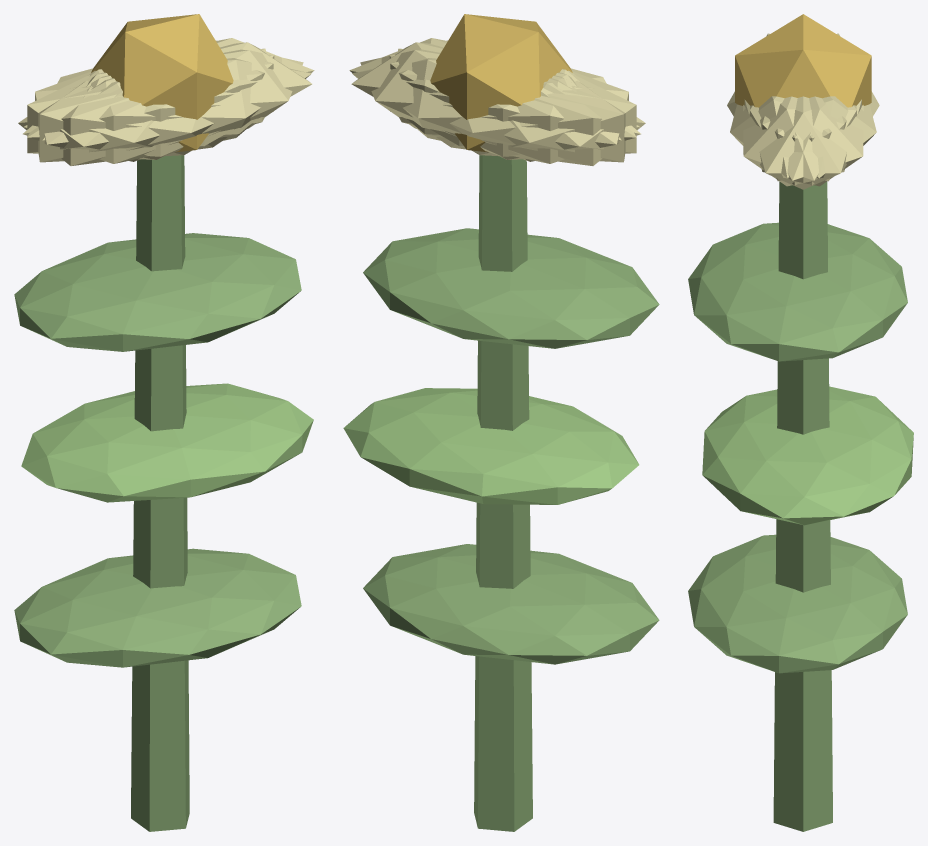
File: ceratocephala-testiculata.glb
3 views of the same model, side by side, from view 1: azimuth 30°, elevation 25°; view 2: azimuth 150°, elevation 25°; view 3: azimuth 270°, elevation 25° (orthographic).
Visible parts, largest first — view 1: stem, leaf2, leaf0, leaf1, center, petal1, petal6, petal2, petal5, petal7, petal0, petal4 (+2 smaller); view 2: stem, leaf2, leaf1, leaf0, center, petal8, petal3, petal7, petal4, petal2, petal0, petal5 (+2 smaller); view 3: leaf2, leaf1, stem, leaf0, center, petal0, petal4, petal5, petal1, petal8.
Part boxes in pixels (x1,y1,x2,y2): stem: (131,155,189,831); leaf2: (14,233,301,351); leaf0: (14,548,301,667); leaf1: (21,383,313,502); center: (91,14,233,152); petal1: (23,58,311,163); petal6: (18,71,227,165); petal2: (38,48,265,162); petal5: (42,49,303,156); petal7: (27,54,274,159); petal0: (90,42,312,146); petal4: (24,38,314,137); stem: (474,155,532,831); leaf2: (363,228,659,348); leaf1: (343,388,639,504); leaf0: (363,544,659,664); center: (430,14,572,152); petal8: (352,58,640,163); petal3: (436,70,645,165); petal7: (398,48,625,162); petal4: (360,49,621,156); petal2: (389,54,636,159); petal0: (351,42,572,146); petal5: (349,38,639,137); leaf2: (688,222,907,361); leaf1: (702,386,913,525); stem: (773,181,832,831); leaf0: (688,534,907,673); center: (735,14,871,107); petal0: (744,96,861,189); petal4: (750,96,863,186); petal5: (743,96,856,186); petal1: (730,96,846,178); petal8: (760,96,876,178).
Bounding box in the file's own units: 0.1452 × 0.3885 × 0.1011.
